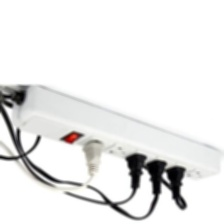three_eye_plug: (7, 82, 222, 186)
